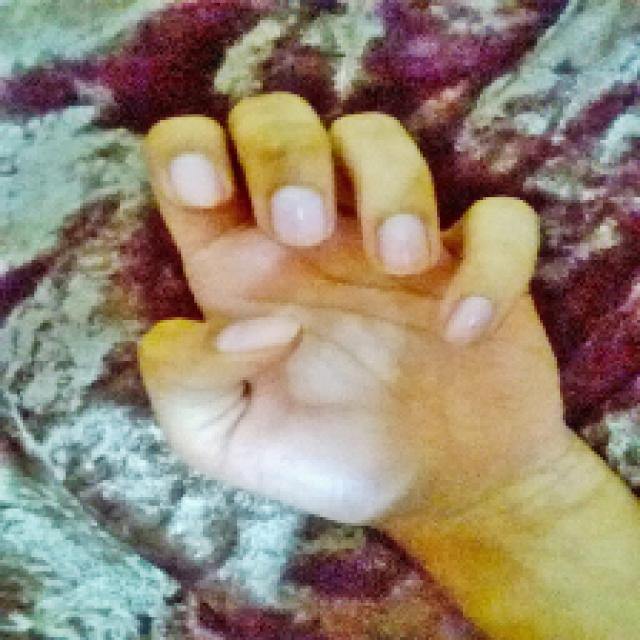Nail: (271, 185, 330, 246), (378, 212, 430, 275), (169, 152, 224, 208), (216, 316, 300, 352), (445, 295, 492, 343)
